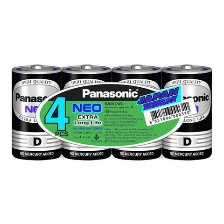battery: (108, 61, 164, 160), (8, 63, 64, 161), (60, 61, 115, 160), (160, 60, 213, 160)
